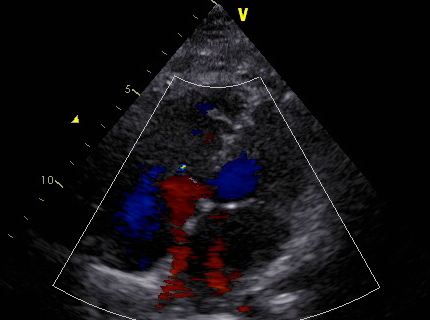TR: (124, 162, 201, 223)
